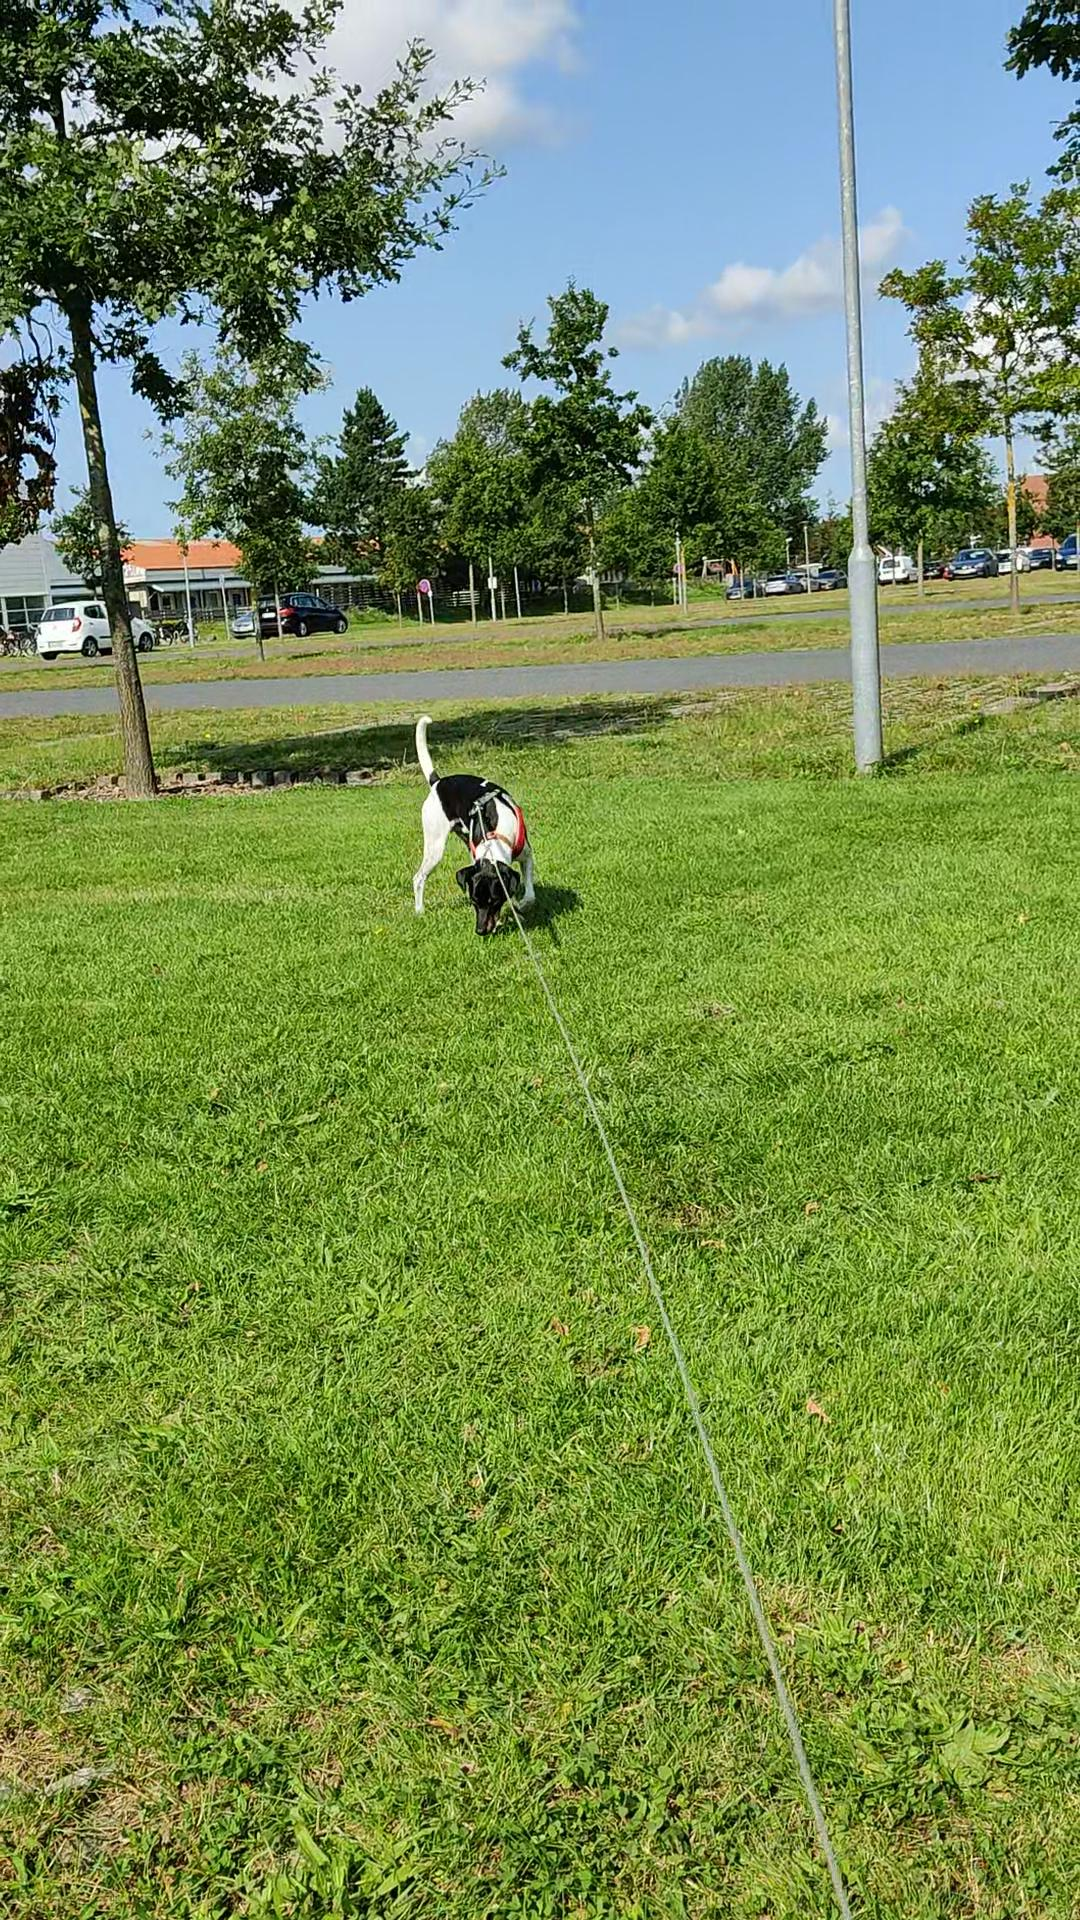Dog: (409, 713, 541, 939)
